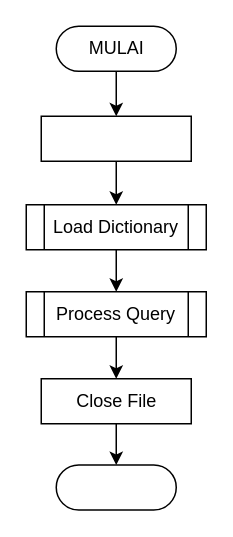
Image size: 233x537. Some labels were removed from this diagram. The shapes that lost their labels are listed below. From the top down, each one's box as (x1, y1, x2, y2) in pixels, then its label:
(40, 115, 191, 161): Open File
(55, 464, 176, 510): SELESAI
